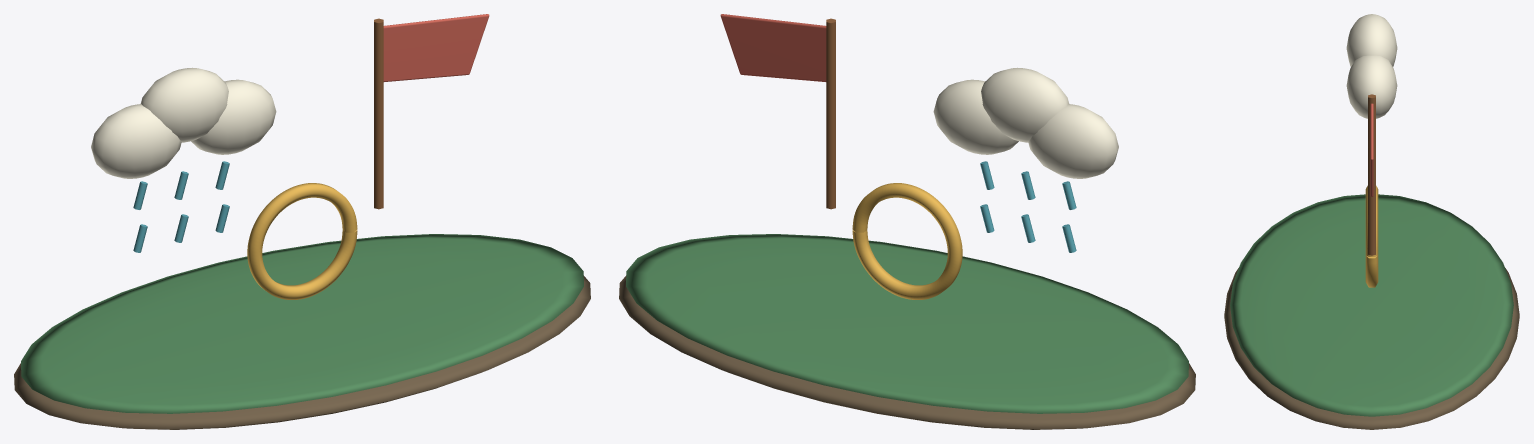
Rendered from complete-first-zero-rain-order.glb.
3 views of the same model, side by side, from view 1: azimuth 30°, elevation 25°; view 2: azimuth 150°, elevation 25°; view 3: azimuth 270°, elevation 25° (orthographic). The views are drawn at different scales.
Parts seen in each view (by area): view 1: complete-first-zero-rain-order_surface_01, complete-first-zero-rain-order_surface_02, complete-first-zero-rain-order_surface_00, complete-first-zero-rain-order_surface_05, complete-first-zero-rain-order_surface_06, complete-first-zero-rain-order_surface_04, complete-first-zero-rain-order_surface_03; view 2: complete-first-zero-rain-order_surface_01, complete-first-zero-rain-order_surface_02, complete-first-zero-rain-order_surface_00, complete-first-zero-rain-order_surface_05, complete-first-zero-rain-order_surface_06, complete-first-zero-rain-order_surface_04, complete-first-zero-rain-order_surface_03; view 3: complete-first-zero-rain-order_surface_01, complete-first-zero-rain-order_surface_00, complete-first-zero-rain-order_surface_02, complete-first-zero-rain-order_surface_04, complete-first-zero-rain-order_surface_06, complete-first-zero-rain-order_surface_05.
Boxes of the visible parts, x1,y1,x2,y2 form: complete-first-zero-rain-order_surface_01: (21, 234, 583, 413); complete-first-zero-rain-order_surface_02: (91, 67, 276, 178); complete-first-zero-rain-order_surface_00: (14, 275, 590, 429); complete-first-zero-rain-order_surface_05: (383, 14, 489, 81); complete-first-zero-rain-order_surface_06: (247, 183, 357, 299); complete-first-zero-rain-order_surface_04: (374, 18, 383, 209); complete-first-zero-rain-order_surface_03: (133, 161, 229, 252); complete-first-zero-rain-order_surface_01: (626, 234, 1188, 413); complete-first-zero-rain-order_surface_02: (933, 67, 1118, 178); complete-first-zero-rain-order_surface_00: (619, 275, 1195, 429); complete-first-zero-rain-order_surface_05: (720, 14, 826, 81); complete-first-zero-rain-order_surface_06: (852, 183, 962, 299); complete-first-zero-rain-order_surface_04: (826, 18, 835, 209); complete-first-zero-rain-order_surface_03: (980, 161, 1076, 252); complete-first-zero-rain-order_surface_01: (1230, 194, 1513, 416); complete-first-zero-rain-order_surface_00: (1224, 268, 1519, 429); complete-first-zero-rain-order_surface_02: (1346, 14, 1397, 118); complete-first-zero-rain-order_surface_04: (1368, 94, 1375, 255); complete-first-zero-rain-order_surface_06: (1365, 185, 1378, 287); complete-first-zero-rain-order_surface_05: (1370, 103, 1373, 196).
Size of the model in its own units: 4.56 by 2.47 by 2.5.
